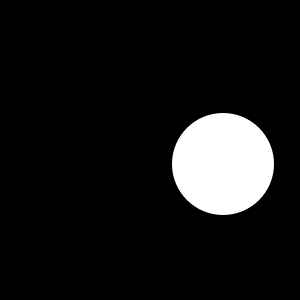rectangle: (172, 113, 274, 215)
triangle: (185, 120, 238, 173)
